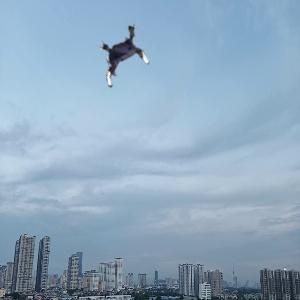drone: (93, 26, 154, 87)
